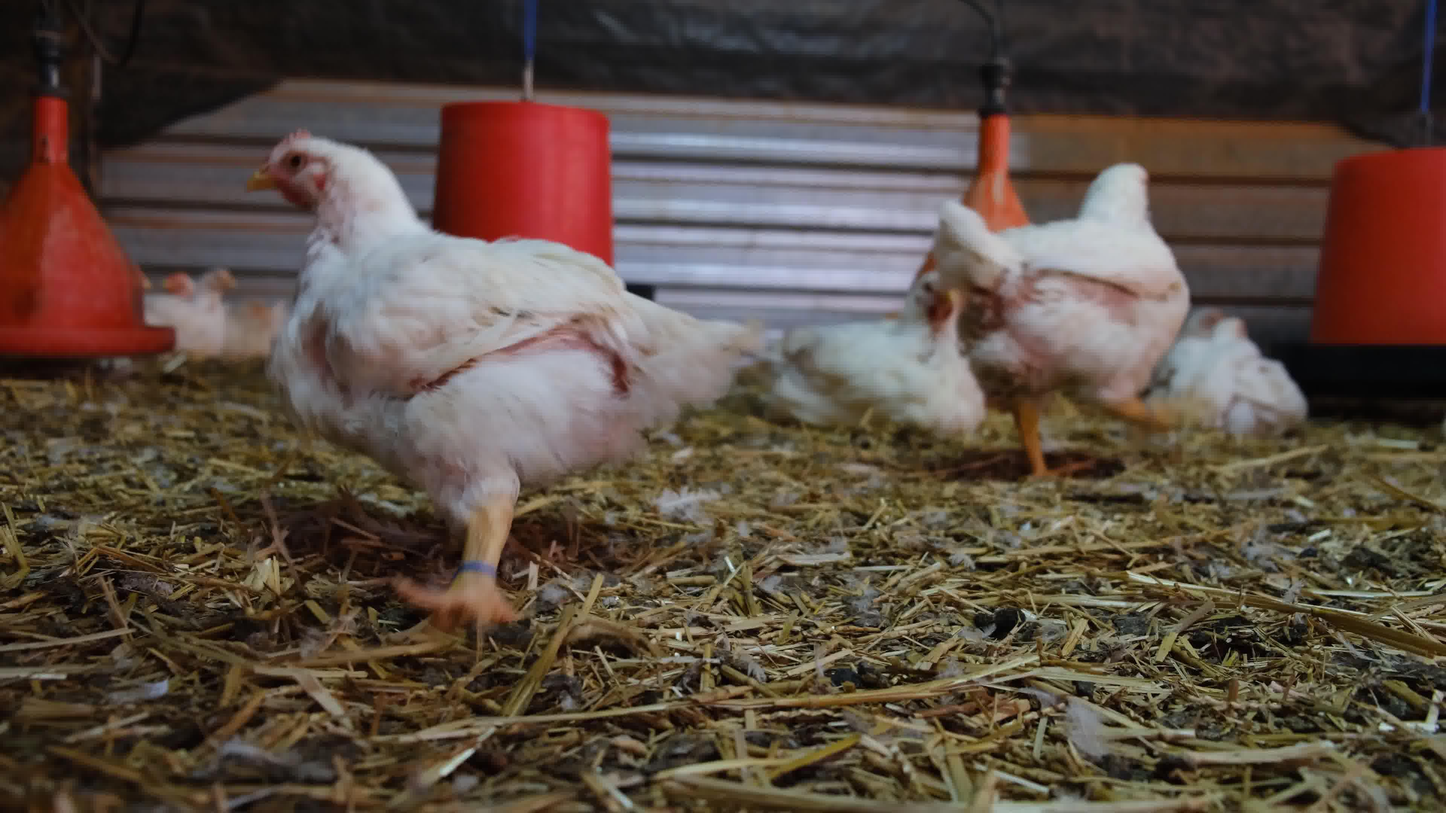AbNormal: (768, 265, 988, 442), (1199, 312, 1322, 446), (1173, 279, 1252, 416), (228, 290, 303, 373)
Normal: (235, 126, 755, 647), (906, 154, 1213, 508), (128, 267, 256, 376)
